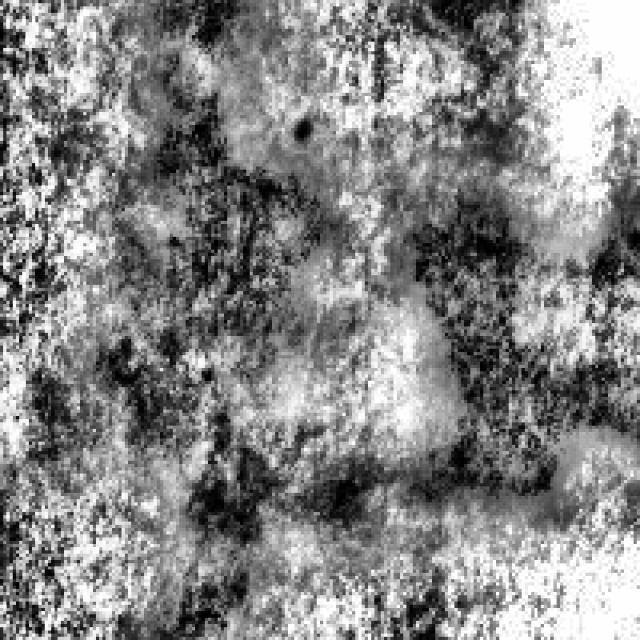Scratches: (115, 0, 323, 416), (387, 176, 637, 506), (179, 444, 378, 630)
